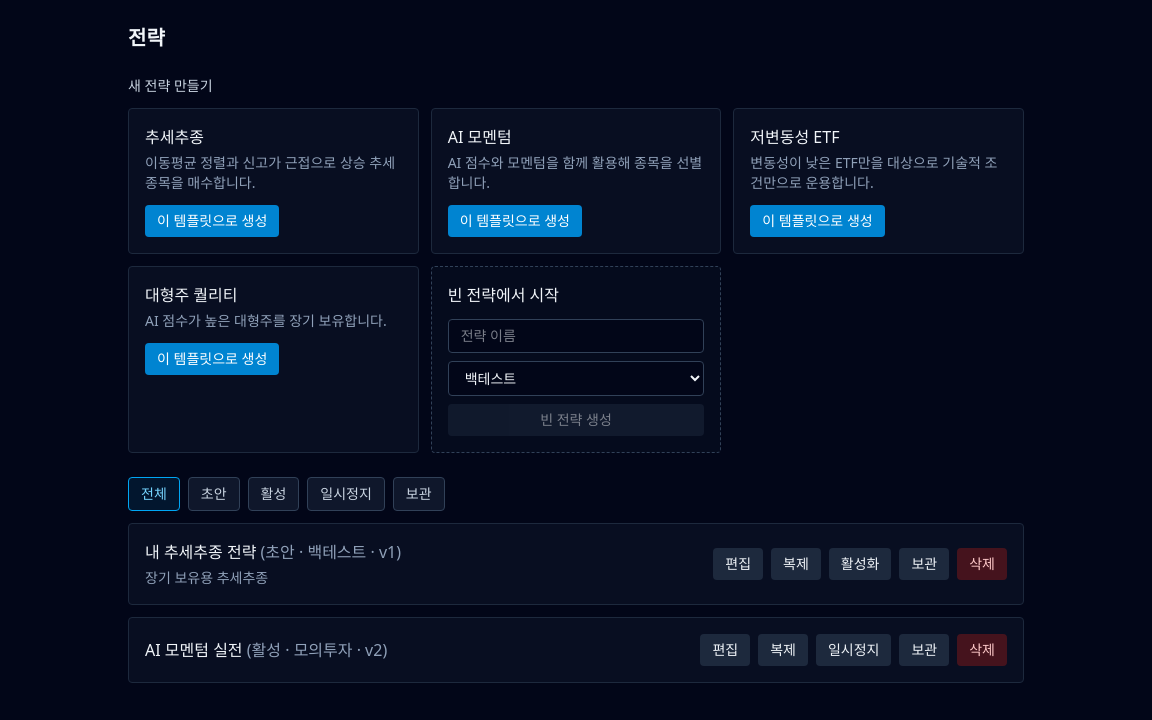
Test: StrategyListPage › filters the list by status
Check: the text "내 추세추종 전략 (초안 · 백테스트 · v1)" is shown, box [145,540,401,564]
Click the button "활성".
click(273, 494)  # box [248,477,299,511]
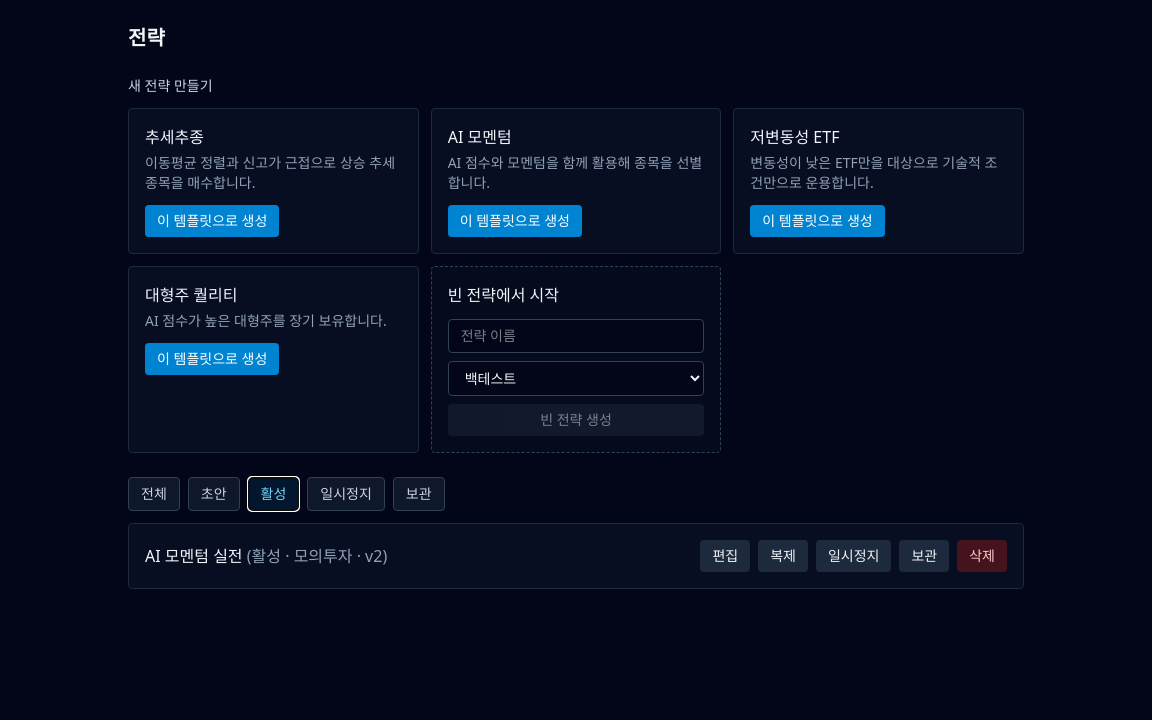
Check: the text "AI 모멘텀 실전 (활성 · 모의투자 · v2)" is shown, box [145,544,387,568]
Check: the text "내 추세추종 전략" is gone
